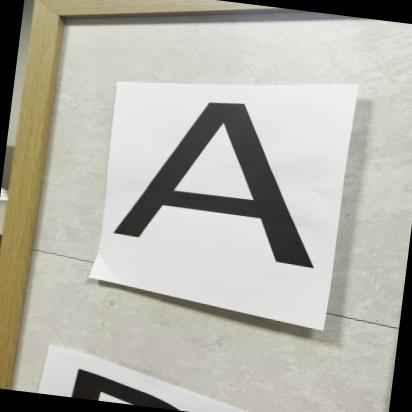seat: (96, 79, 358, 292)
